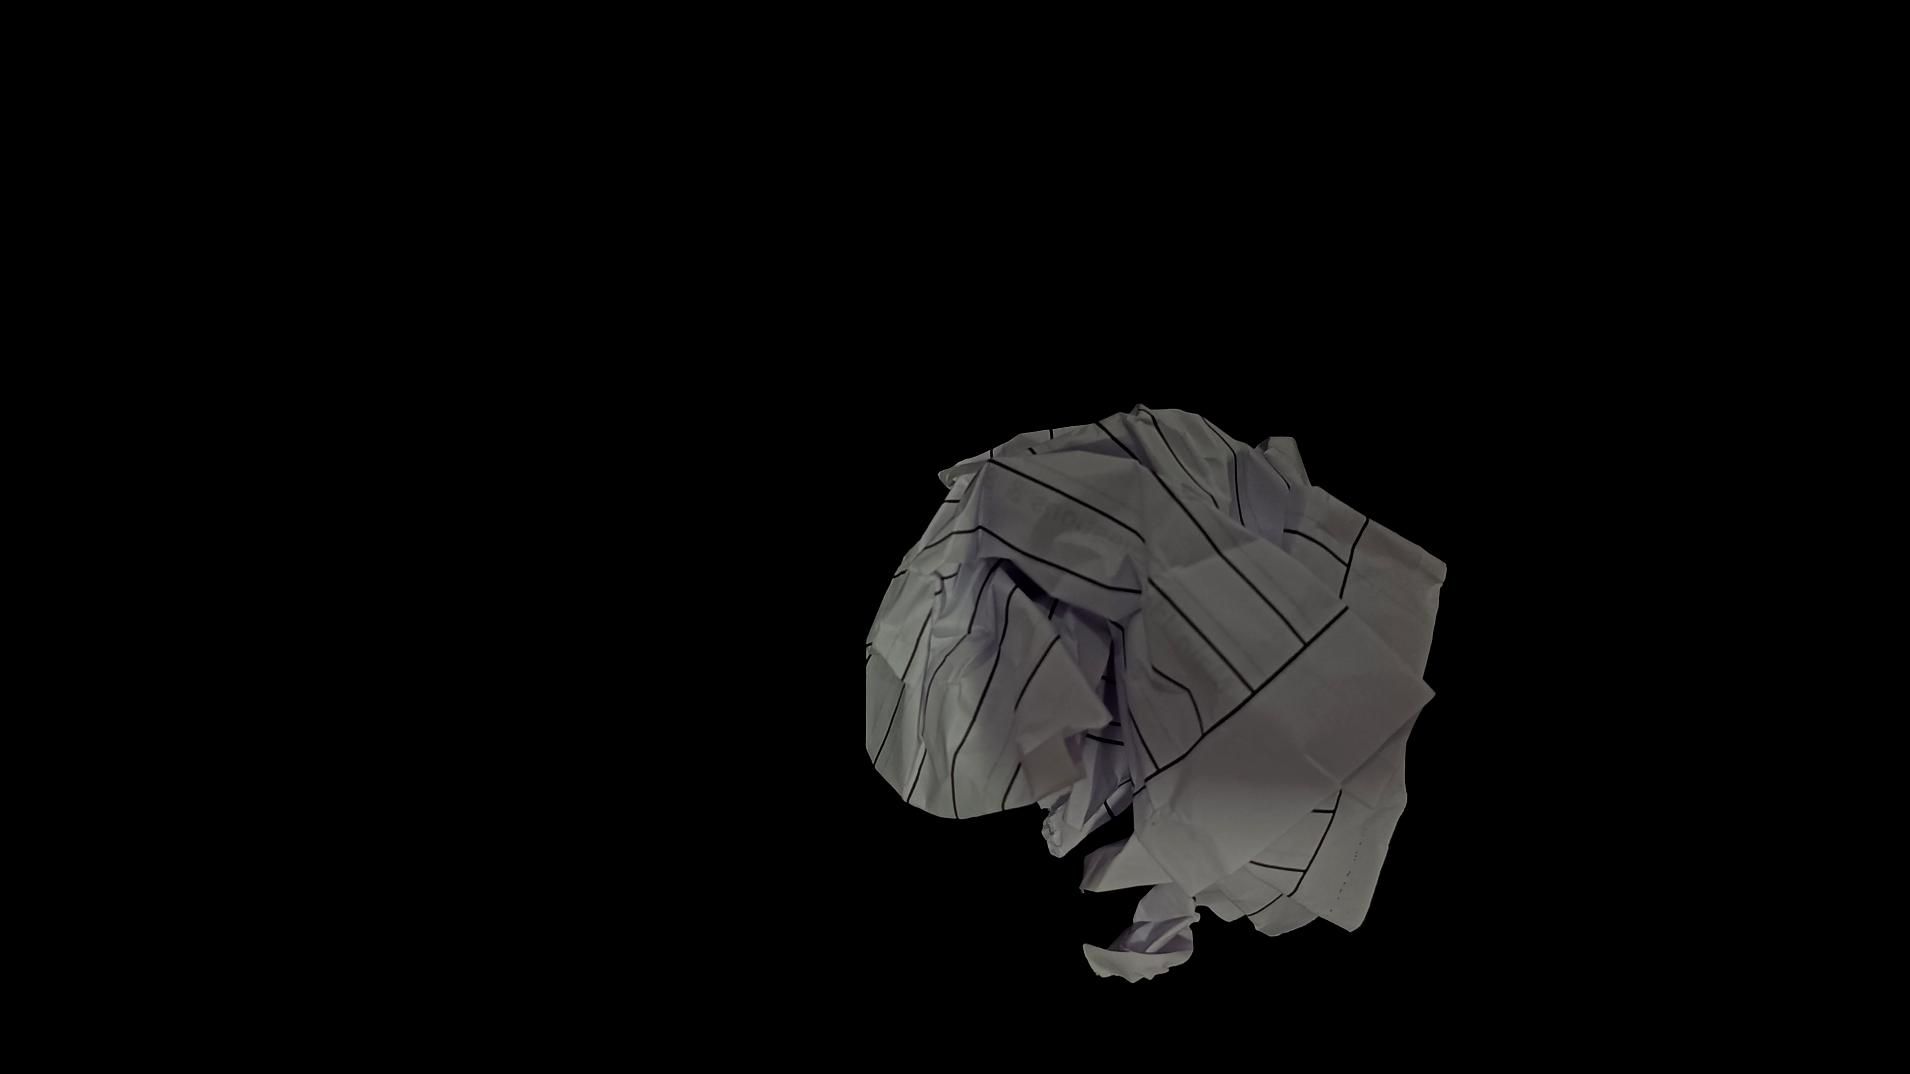PaperBall: (840, 392, 1455, 1002), (882, 447, 1143, 783), (1081, 859, 1202, 972)
